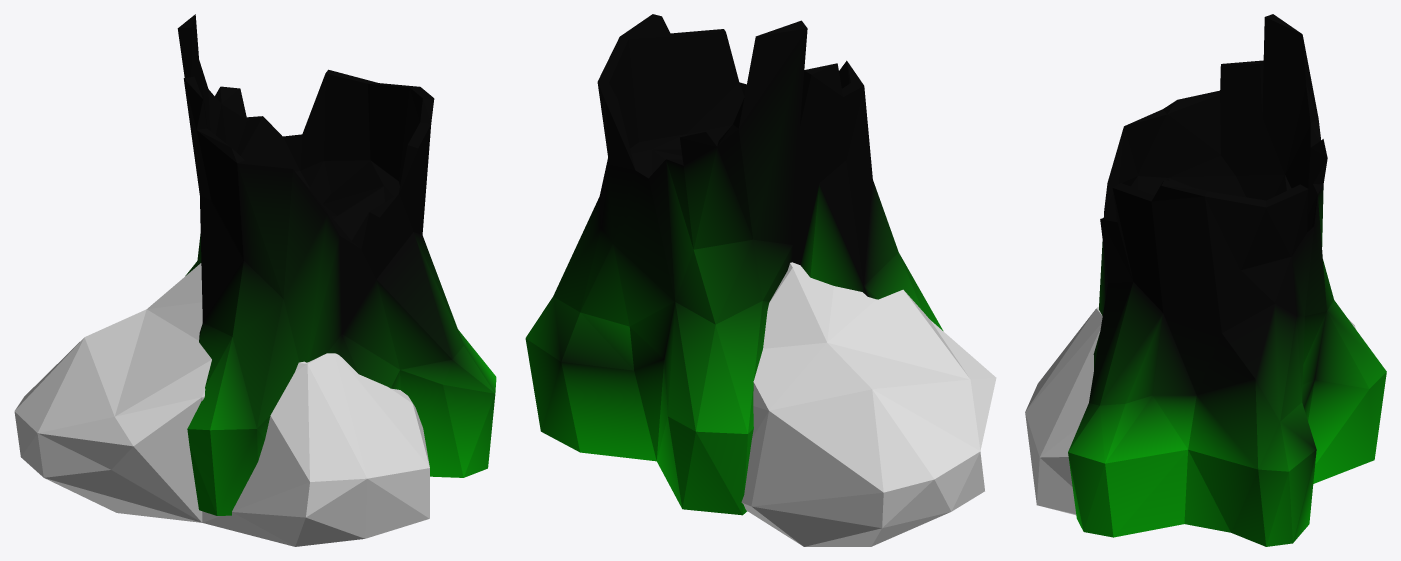
File: SM_Collision_OakStump1_SnowCover.fbx
The picture shows the model from 3 angles, left to right: view 1: azimuth 30°, elevation 25°; view 2: azimuth 150°, elevation 25°; view 3: azimuth 270°, elevation 25°; orthographic projection. The views are drawn at different scales.
Visible parts, largest first — view 1: SM_Collision_OakStump1_SnowCover; view 2: SM_Collision_OakStump1_SnowCover; view 3: SM_Collision_OakStump1_SnowCover.
Boxes of the visible parts, box(x1,y1,x2,y2) form: SM_Collision_OakStump1_SnowCover: box(14, 14, 496, 546); SM_Collision_OakStump1_SnowCover: box(525, 14, 996, 546); SM_Collision_OakStump1_SnowCover: box(1025, 14, 1386, 546).
Size of the model in its own units: 331 by 369 by 262.
